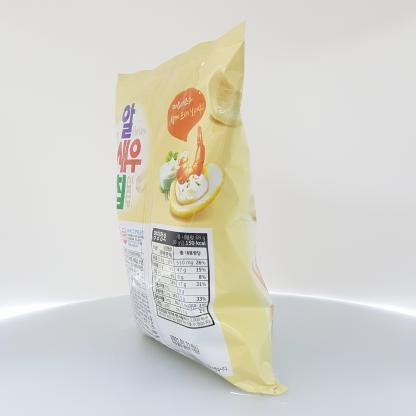Plastic Packaging: (102, 13, 298, 402)
